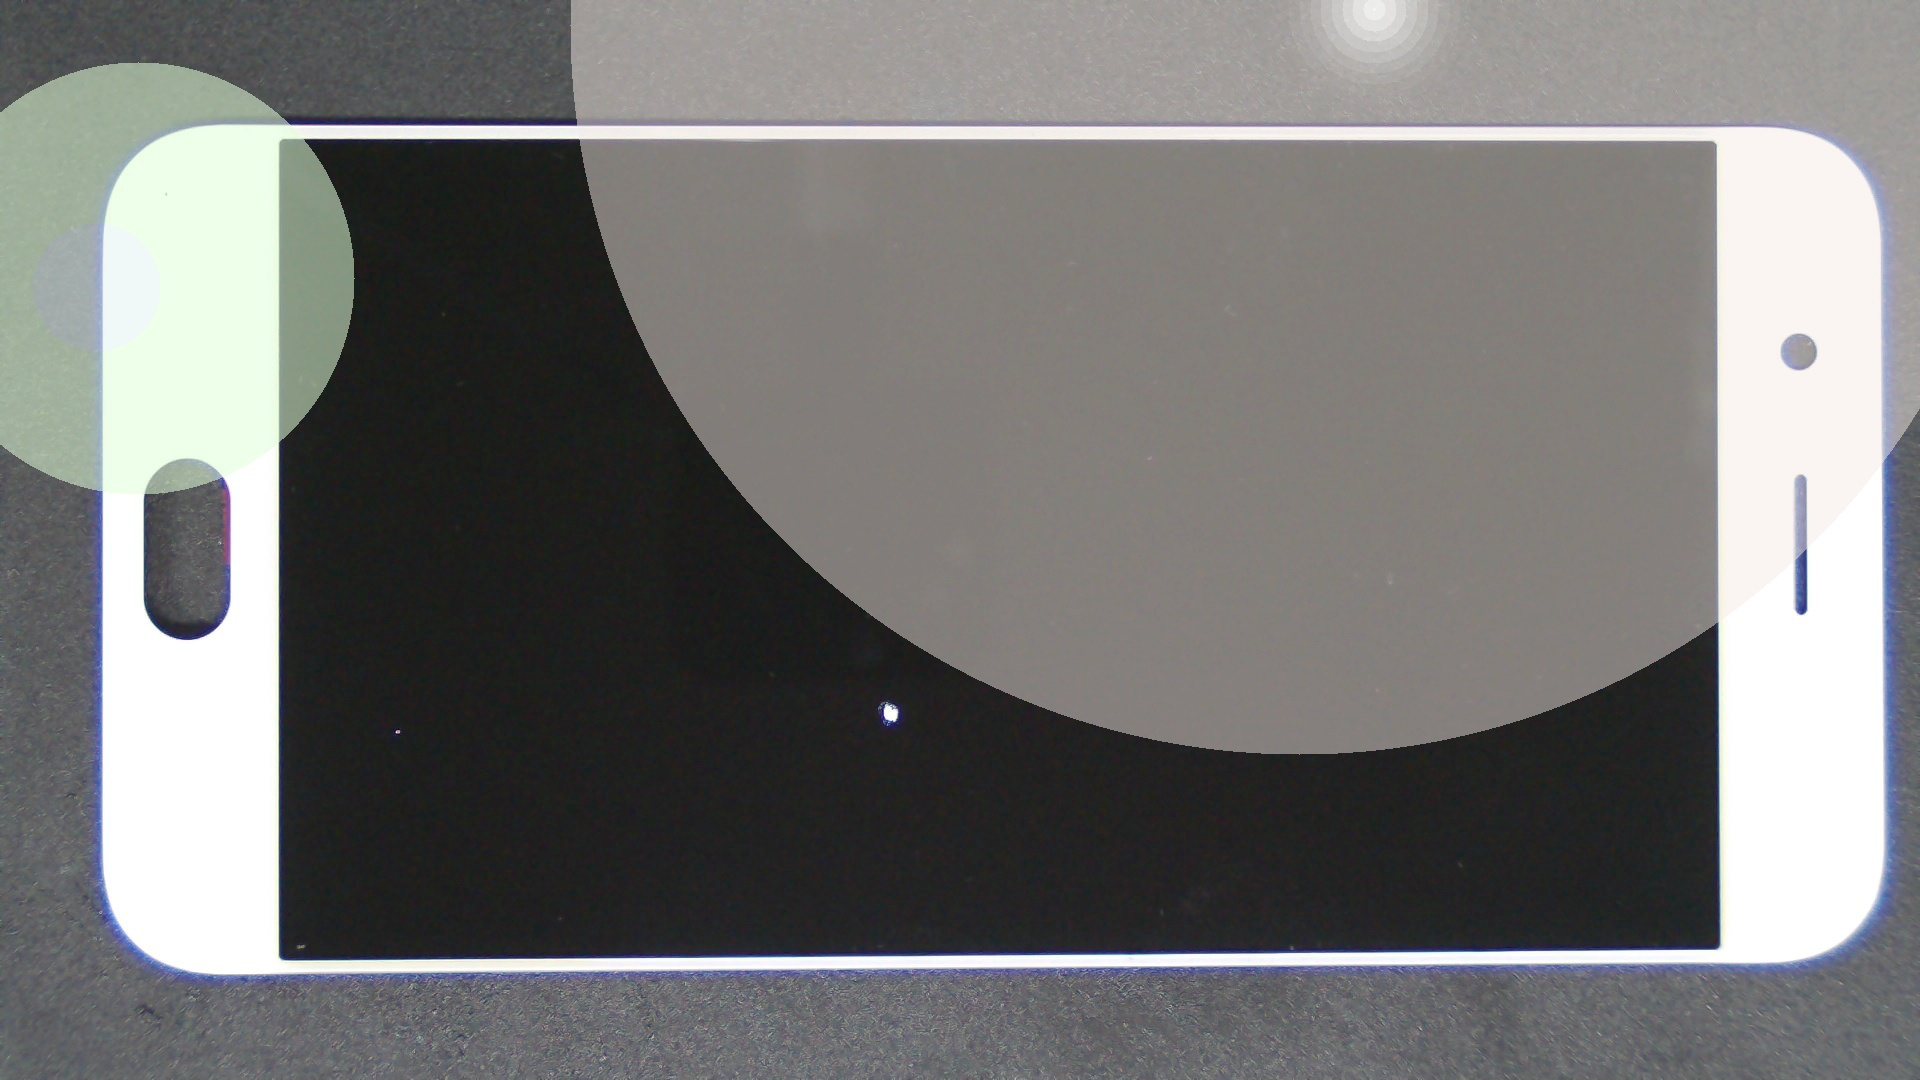oil: (443, 348, 1320, 1052)
